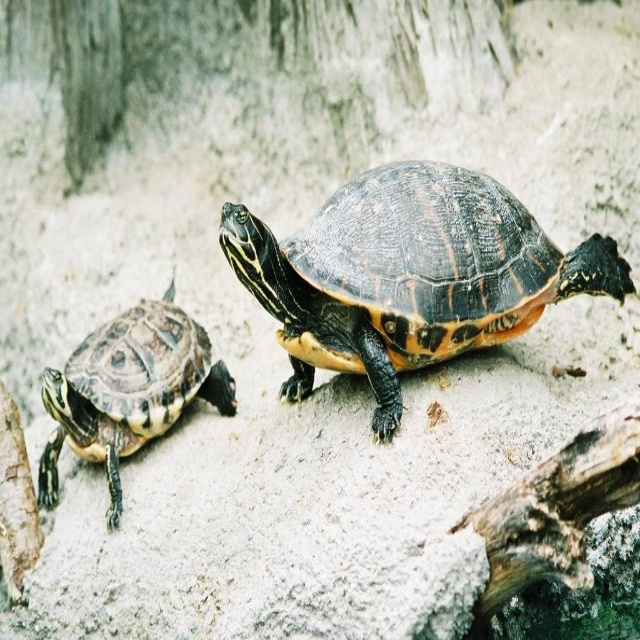Sea turtle: (217, 154, 636, 443), (38, 274, 239, 540)
